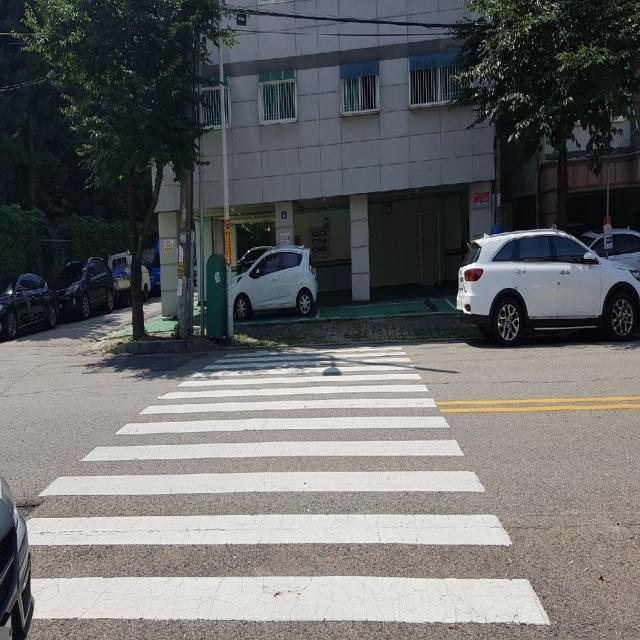횡단보도: (21, 343, 554, 633)
